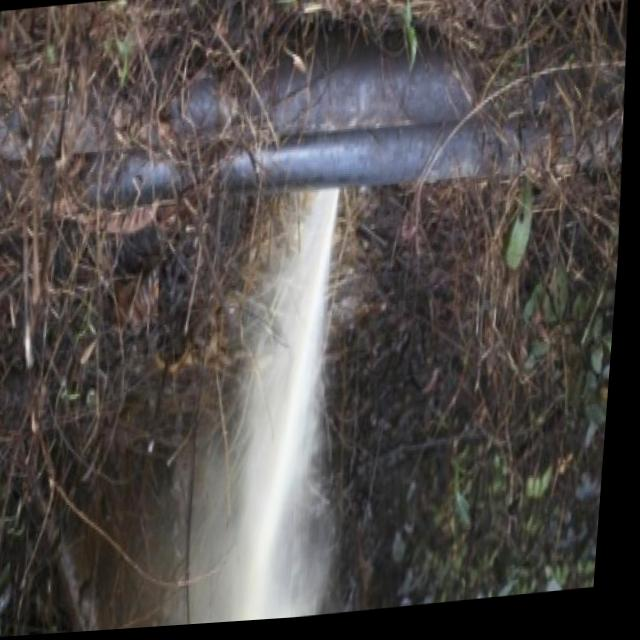leak: (191, 189, 339, 624)
